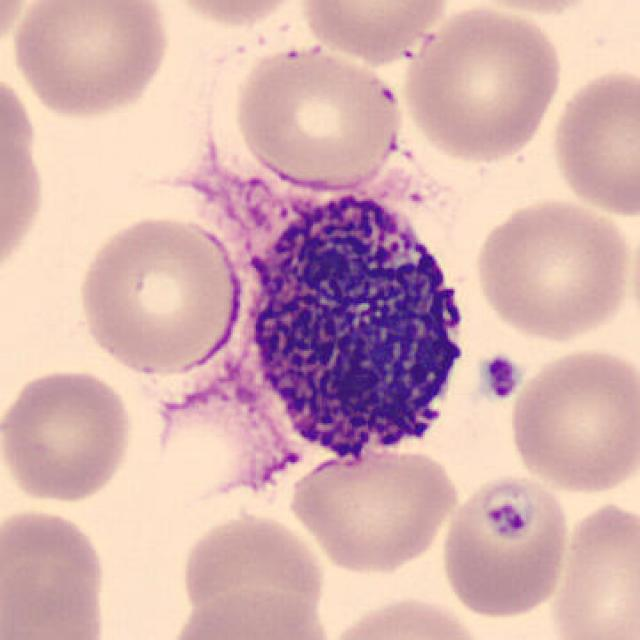Basophil: (224, 168, 482, 483)
Platelets: (474, 473, 540, 541), (477, 351, 522, 404)
RBC: (71, 210, 247, 377), (229, 40, 407, 194), (398, 2, 567, 164), (469, 194, 636, 344), (283, 442, 464, 576), (438, 469, 574, 621), (505, 342, 638, 497), (7, 0, 172, 123), (0, 363, 139, 506), (174, 508, 329, 631), (0, 502, 112, 634), (547, 63, 640, 220), (546, 495, 640, 640), (0, 67, 50, 287), (296, 0, 453, 63), (161, 583, 334, 640), (320, 592, 491, 640), (158, 0, 311, 30), (455, 0, 608, 18), (0, 0, 36, 60)
